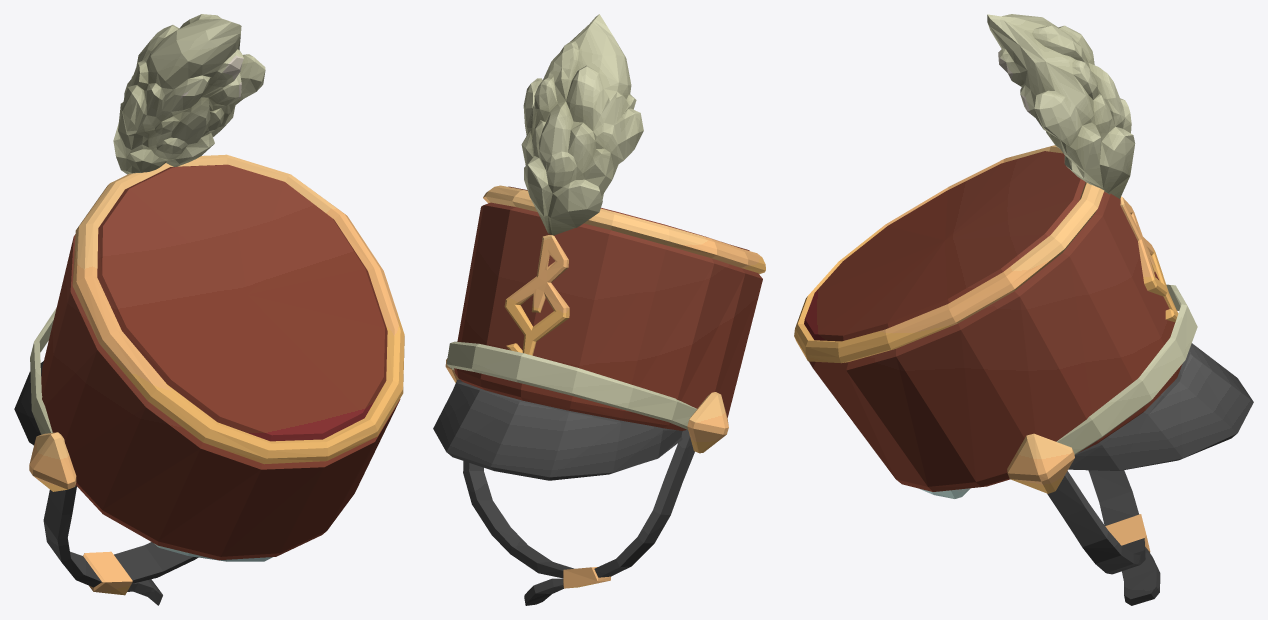
The model's file is CharSkyKid_Hair_MarchingBand.glb.
3 renders of one model, left to right at view 1: azimuth 30°, elevation 25°; view 2: azimuth 150°, elevation 25°; view 3: azimuth 270°, elevation 25°, orthographic. The views are drawn at different scales.
Parts seen in each view (by area): view 1: CharSkyKid_Hair_MarchingBand; view 2: CharSkyKid_Hair_MarchingBand; view 3: CharSkyKid_Hair_MarchingBand.
Boxes of the visible parts, x1,y1,x2,y2 form: CharSkyKid_Hair_MarchingBand: [14, 14, 404, 605]; CharSkyKid_Hair_MarchingBand: [433, 14, 765, 605]; CharSkyKid_Hair_MarchingBand: [794, 14, 1253, 605].
Size of the model in its own units: 3.09 by 5.72 by 4.02.
Materials: 1 (1 with a texture image).
